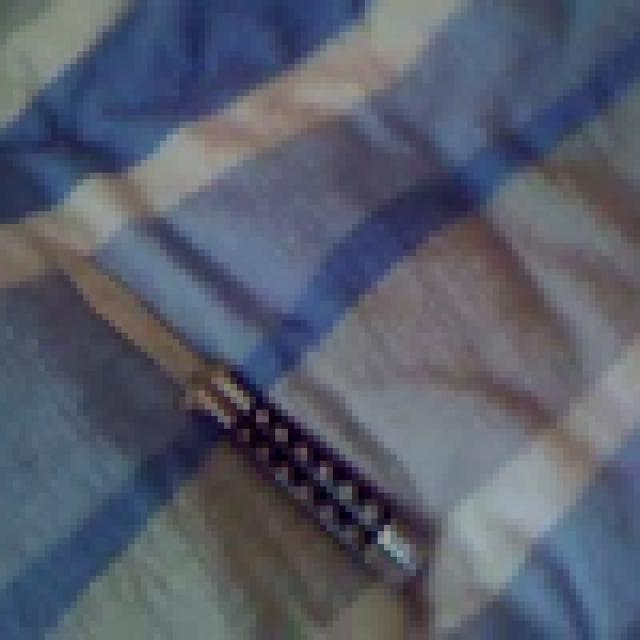knife: (26, 218, 449, 596)
